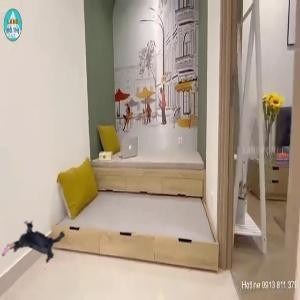drone: (4, 212, 70, 278)
